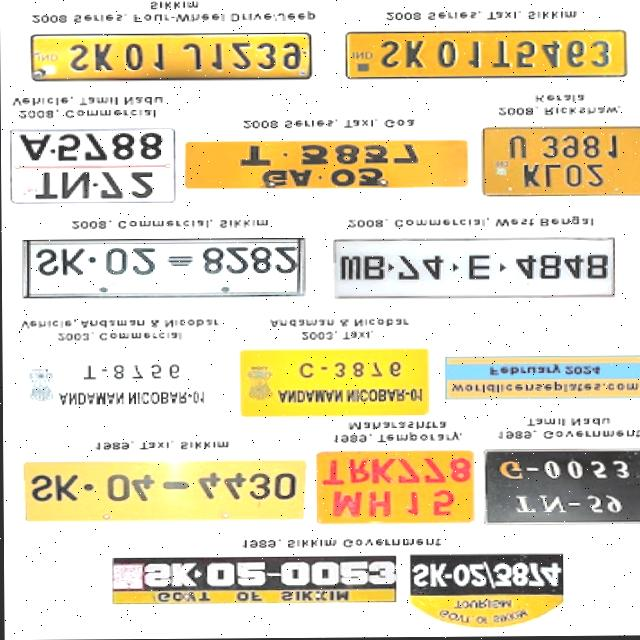plate: (337, 237, 628, 307), (18, 458, 312, 527), (14, 237, 302, 301), (18, 461, 307, 523), (12, 348, 219, 427), (183, 135, 479, 190), (234, 344, 430, 424), (106, 555, 398, 608), (27, 33, 311, 84), (344, 31, 626, 82), (401, 550, 574, 631), (312, 448, 478, 530), (481, 445, 640, 530), (8, 128, 176, 206), (315, 449, 473, 527), (481, 451, 640, 528), (479, 128, 640, 200)
